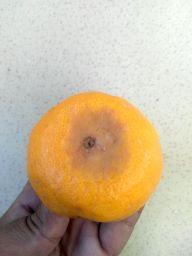Unripe: (27, 93, 163, 222)
